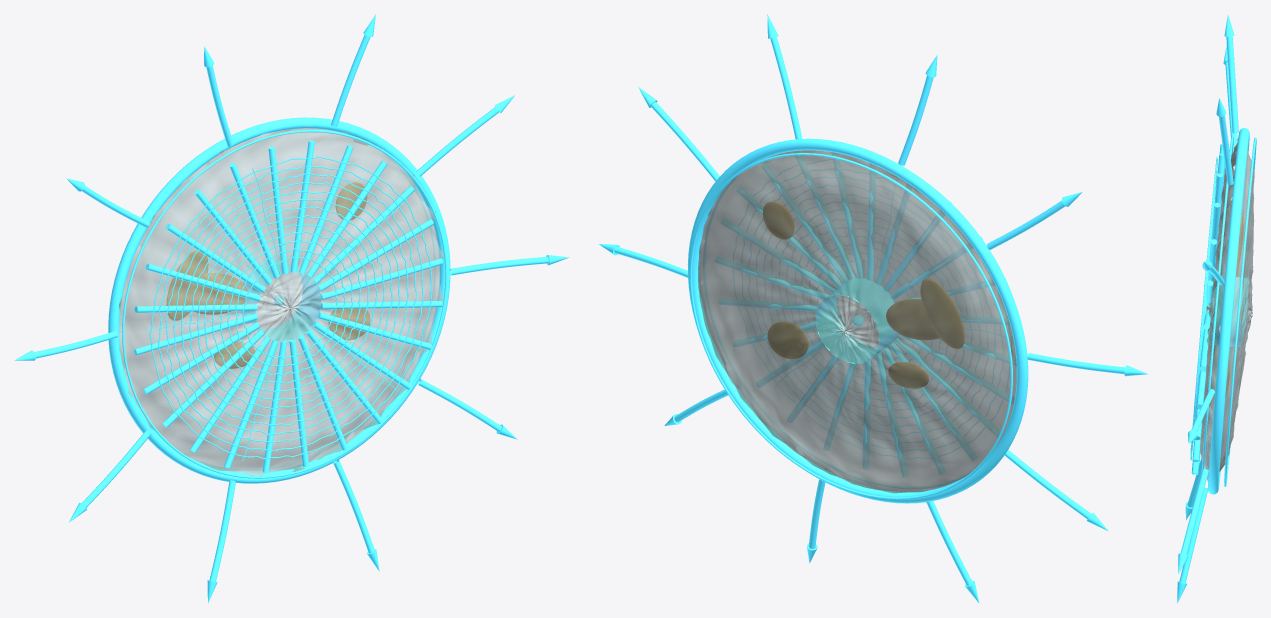
Rendered from diatom-2.glb.
The picture shows the model from 3 angles, left to right: view 1: azimuth 30°, elevation 25°; view 2: azimuth 150°, elevation 25°; view 3: azimuth 270°, elevation 25°; orthographic projection. The views are drawn at different scales.
Parts seen in each view (by area): view 1: shell, radial costa, differential growth lamella, silica mantle rim, silica spine shaft, visible chloroplast body, girdle band, central annulus, pointed spine tip, radial growth crease; view 2: shell, radial costa, silica mantle rim, silica spine shaft, visible chloroplast body, girdle band, central annulus, differential growth lamella, pointed spine tip; view 3: shell, silica mantle rim, silica spine shaft, girdle band, radial costa, central annulus, differential growth lamella, pointed spine tip, visible chloroplast body.
Boxes of the visible parts, <box> form: shell: <box>119,125,444,476</box>; radial costa: <box>134,140,443,472</box>; differential growth lamella: <box>149,156,431,459</box>; silica mantle rim: <box>108,117,450,483</box>; silica spine shaft: <box>34,35,548,581</box>; visible chloroplast body: <box>166,182,370,368</box>; girdle band: <box>122,130,447,478</box>; central annulus: <box>240,260,320,341</box>; pointed spine tip: <box>14,14,569,603</box>; radial growth crease: <box>147,168,407,460</box>; shell: <box>698,150,1016,493</box>; radial costa: <box>715,151,1015,476</box>; silica mantle rim: <box>687,138,1028,503</box>; silica spine shaft: <box>614,37,1124,585</box>; visible chloroplast body: <box>763,202,964,388</box>; girdle band: <box>689,153,1012,499</box>; central annulus: <box>816,278,898,363</box>; differential growth lamella: <box>733,159,1012,458</box>; pointed spine tip: <box>599,14,1147,603</box>; shell: <box>1200,134,1254,481</box>; silica mantle rim: <box>1208,128,1249,494</box>; silica spine shaft: <box>1179,36,1238,583</box>; girdle band: <box>1201,135,1256,486</box>; radial costa: <box>1191,144,1225,474</box>; central annulus: <box>1210,275,1249,346</box>; differential growth lamella: <box>1190,157,1217,460</box>; pointed spine tip: <box>1177,14,1234,603</box>; visible chloroplast body: <box>1225,214,1243,396</box>.
Size of the model in its own units: 142 by 136 by 18.85.
